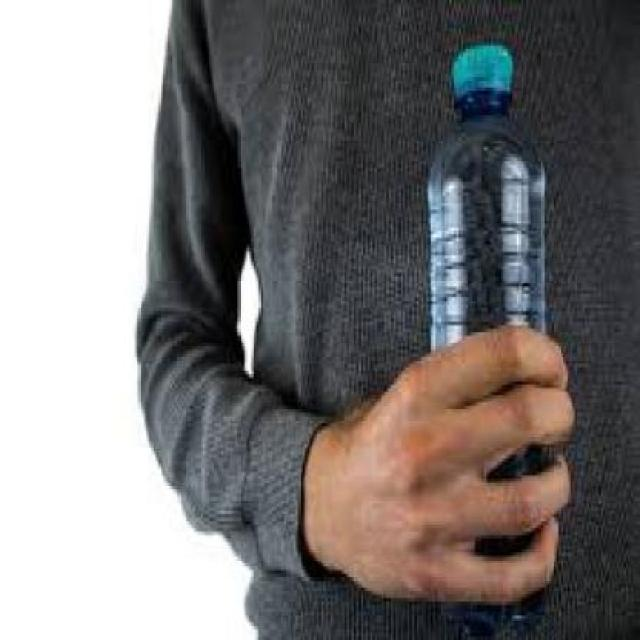Drinking: (402, 34, 568, 592)
